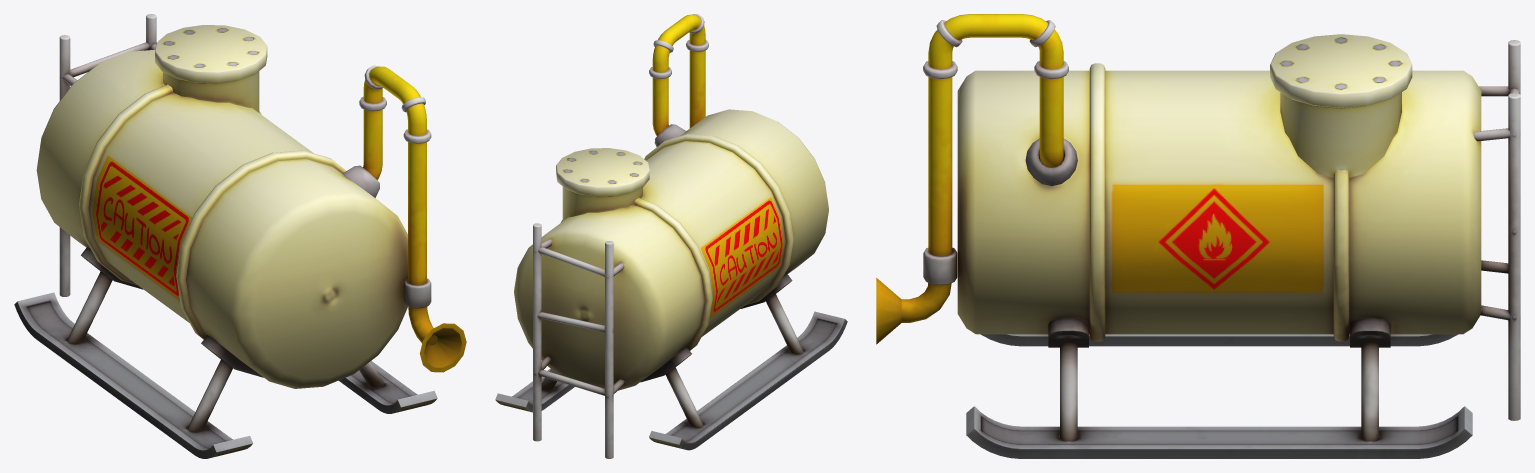
Rendered from GasTank02.FBX.
The picture shows the model from 3 angles, left to right: view 1: azimuth 30°, elevation 25°; view 2: azimuth 150°, elevation 25°; view 3: azimuth 270°, elevation 25°; orthographic projection. The views are drawn at different scales.
Parts seen in each view (by area): view 1: GasTank02; view 2: GasTank02; view 3: GasTank02.
Boxes of the visible parts, <box> form: GasTank02: <box>14,14,466,458</box>; GasTank02: <box>495,14,847,458</box>; GasTank02: <box>876,14,1520,458</box>.
Size of what is drawn, in the model's own units: 2.09 by 3.07 by 4.21.
